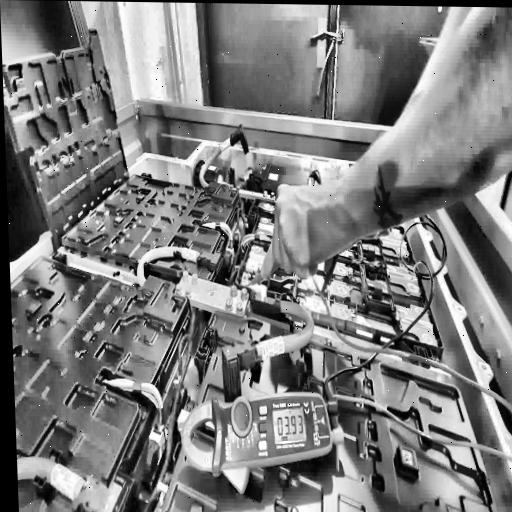high_volt_cable: (247, 291, 318, 380), (17, 451, 113, 512), (193, 125, 251, 188), (134, 244, 209, 289)
low_volt_cable: (116, 199, 260, 512)
nut: (224, 298, 233, 309), (191, 273, 199, 284), (237, 302, 244, 314), (241, 287, 248, 299), (182, 269, 189, 281), (175, 284, 182, 294), (230, 284, 237, 293), (269, 190, 276, 199), (262, 188, 269, 197), (186, 286, 192, 296)
